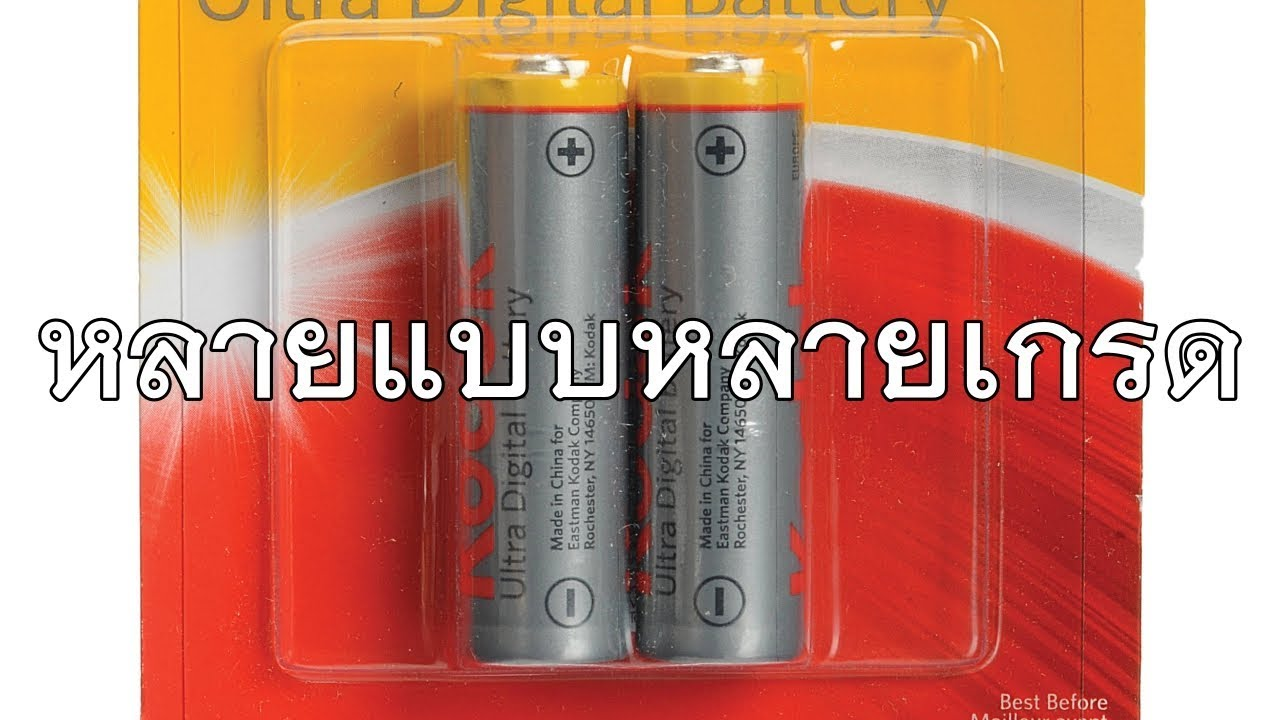Battery: (632, 49, 810, 666), (460, 52, 635, 667)
